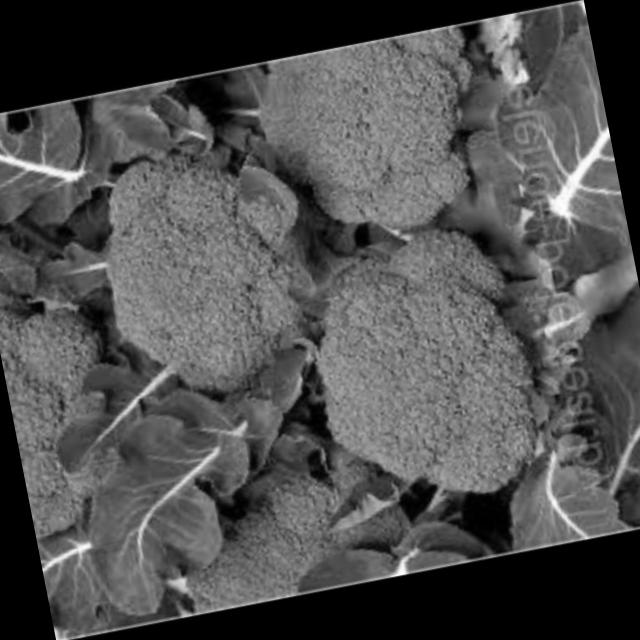bong cai xanh: (277, 217, 558, 537), (72, 126, 338, 446), (220, 22, 500, 282), (131, 428, 393, 620), (0, 256, 160, 560)
